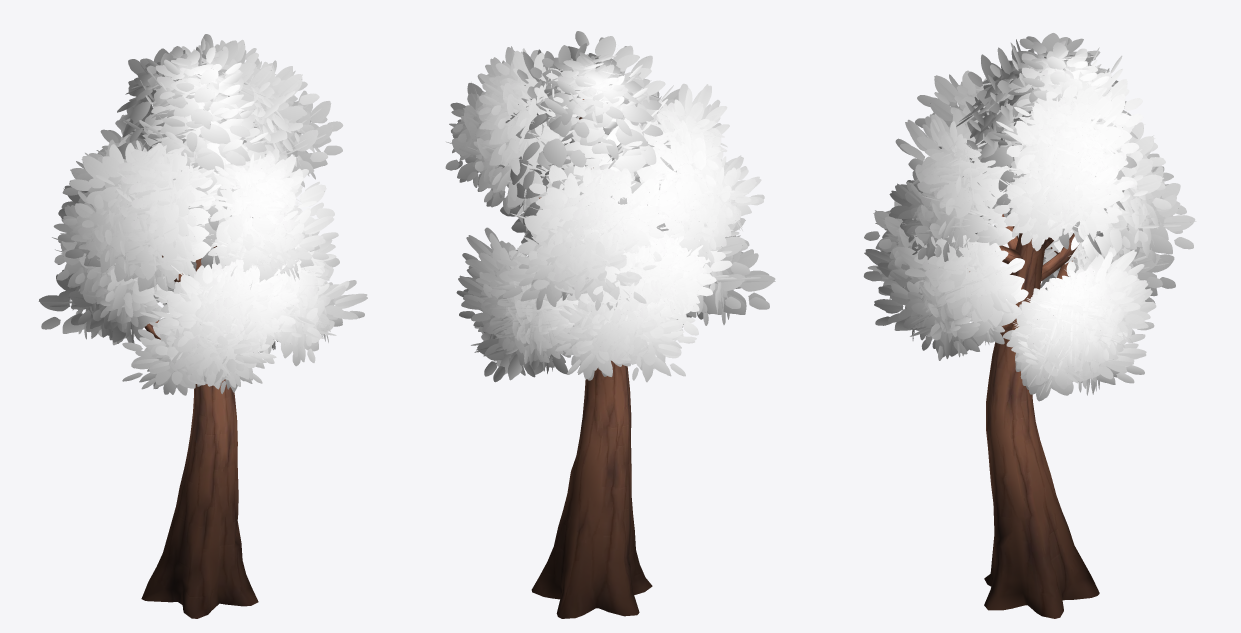
Rendered from CommonTree_1.glb.
The picture shows the model from 3 angles, left to right: view 1: azimuth 30°, elevation 25°; view 2: azimuth 150°, elevation 25°; view 3: azimuth 270°, elevation 25°; orthographic projection. The views are drawn at different scales.
Visible parts, largest first — view 1: CommonTree_1; view 2: CommonTree_1; view 3: CommonTree_1.
Boxes of the visible parts, box(x1,y1,x2,y2) form: CommonTree_1: box(38, 34, 367, 618); CommonTree_1: box(445, 31, 775, 618); CommonTree_1: box(863, 33, 1196, 618).
Bounding box in the file's own units: 4.31 × 7.26 × 4.58.
Materials: 2 (2 with a texture image).
